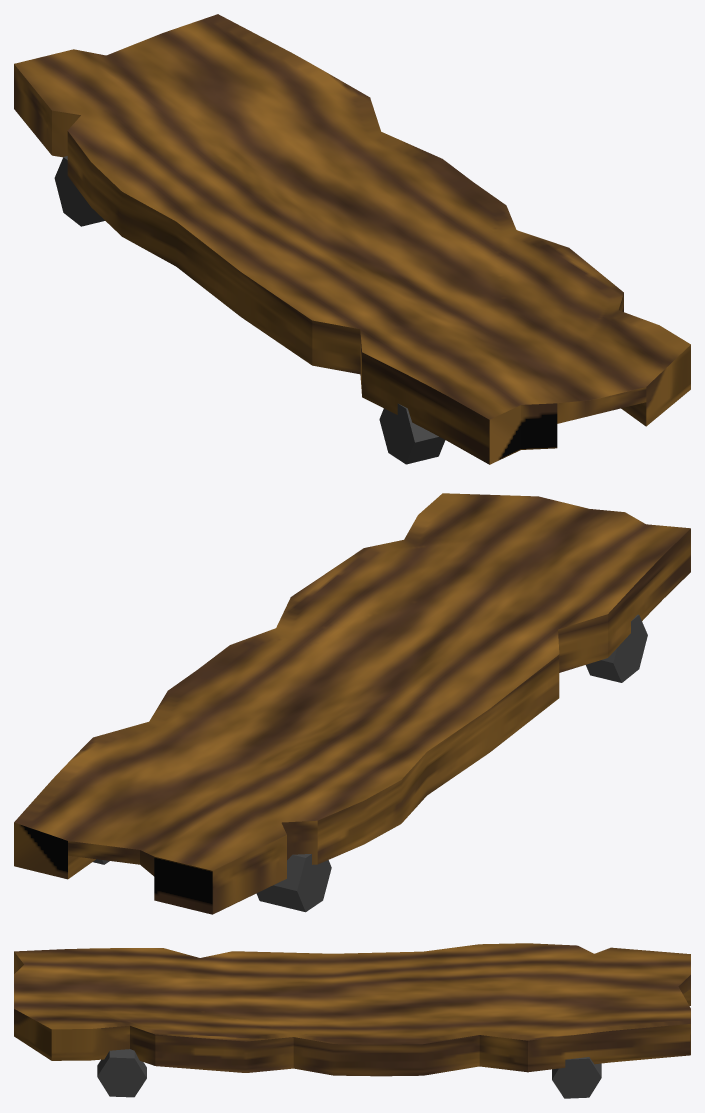
File: plank.fbx
3 renders of one model, top to bottom at view 1: azimuth 30°, elevation 25°; view 2: azimuth 150°, elevation 25°; view 3: azimuth 270°, elevation 25°, orthographic. The views are drawn at different scales.
Parts seen in each view (by area): view 1: plank; view 2: plank; view 3: plank.
Part boxes in pixels (<box>): plank: <box>14,14,690,464</box>; plank: <box>14,493,690,914</box>; plank: <box>14,943,690,1098</box>.
Size of the model in its own units: 33.01 by 10.45 by 97.85.
